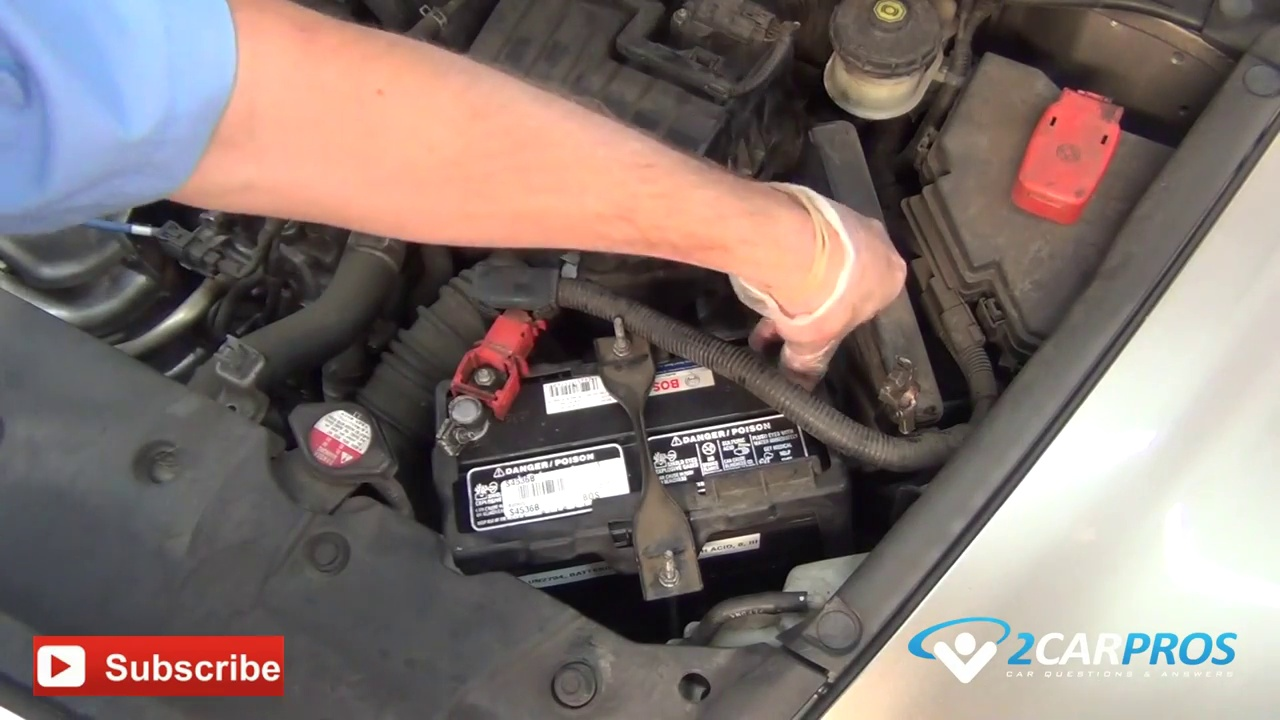battery: (420, 339, 843, 575)
pos_connected: (420, 315, 537, 479)
